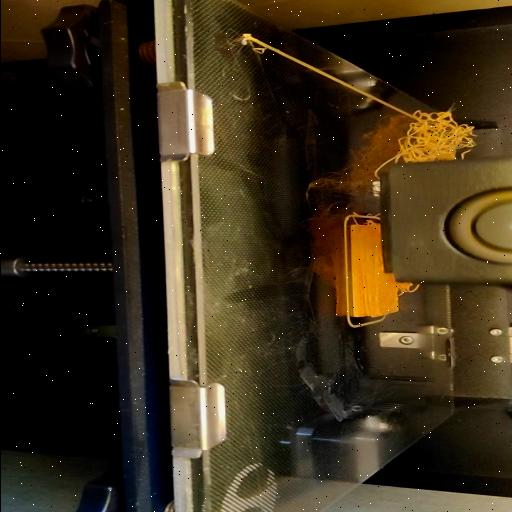spaghetti: (392, 106, 478, 158), (366, 160, 392, 178)
